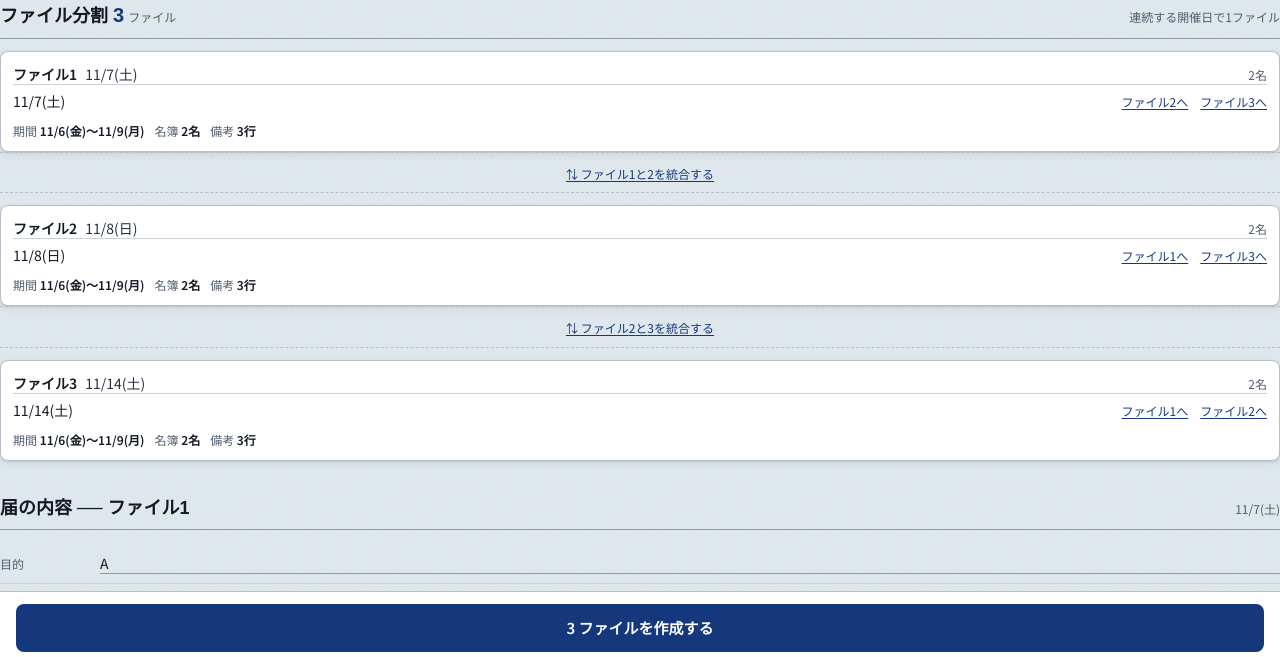
分割操作の競合と統合時の dirty（Codex R2） › ★続けて分割操作をしたとき、古い再計算の応答は捨てられる
Click the button "⇅ ファイル1と2を統合する". click: (640, 174)
box: [566,166,714,182]
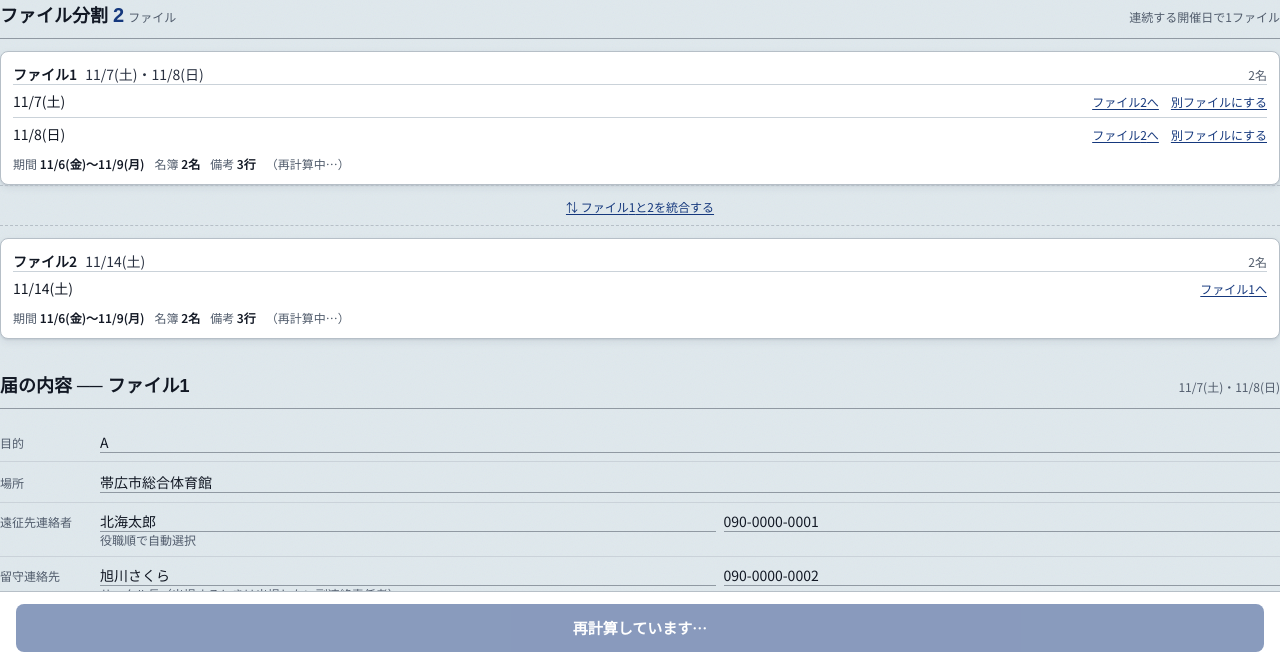
Click the button "⇅ ファイル1と2を統合する". click: (640, 207)
box: [566,199,714,215]
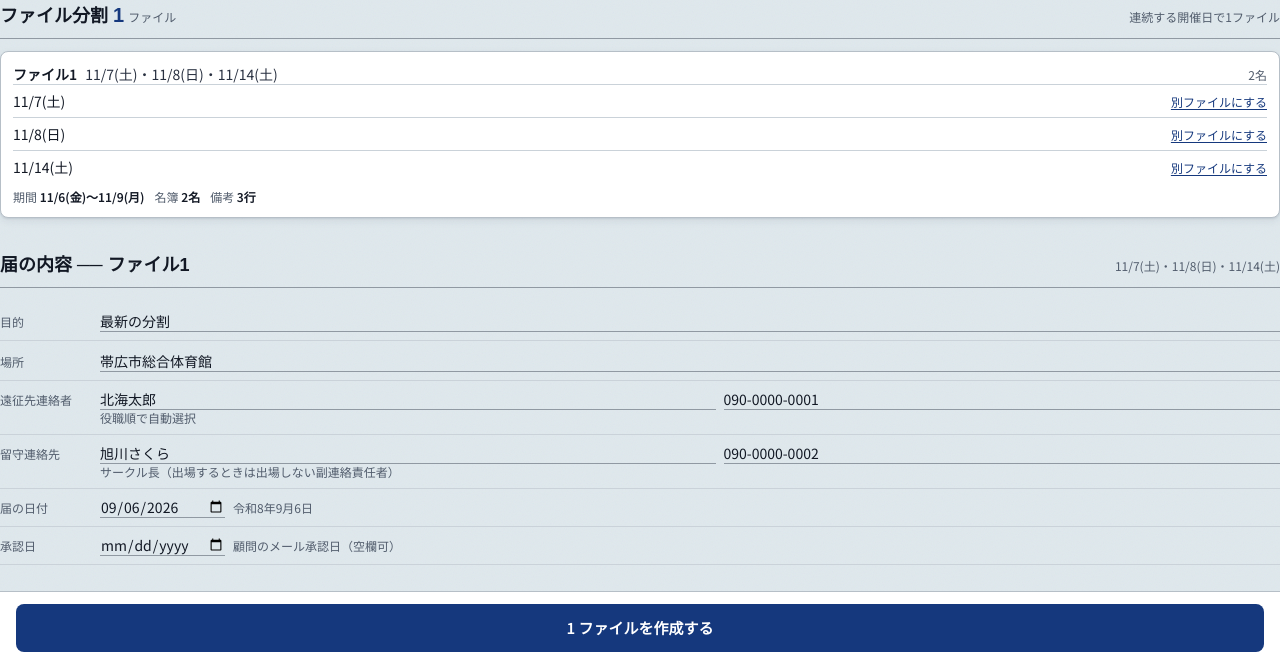
Expected: the field named "ファイル1の目的" holds "最新の分割", [100,311,1279,332]
